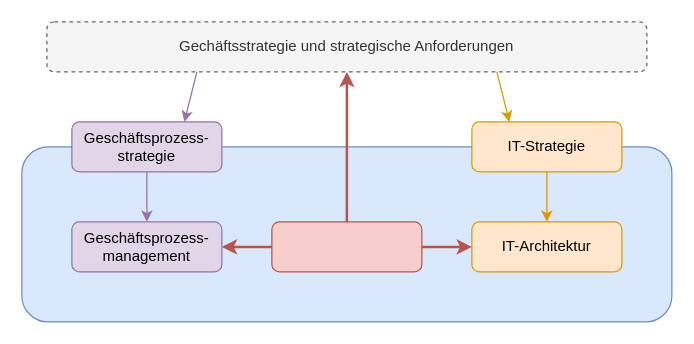
The diagram is 694 pixels wide and 344 high, and some of its shapes have lost their labels. The box of each missing label's shape, as (x1, y1, x2, y2) in pixels:
Capabilities: (271, 221, 422, 272)
Enterprise Architektur Management: (21, 146, 672, 322)
